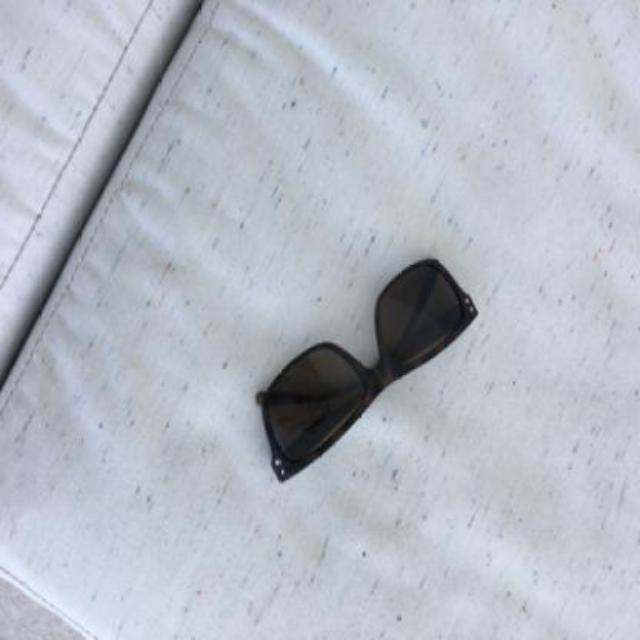glasses: (254, 259, 478, 485)
